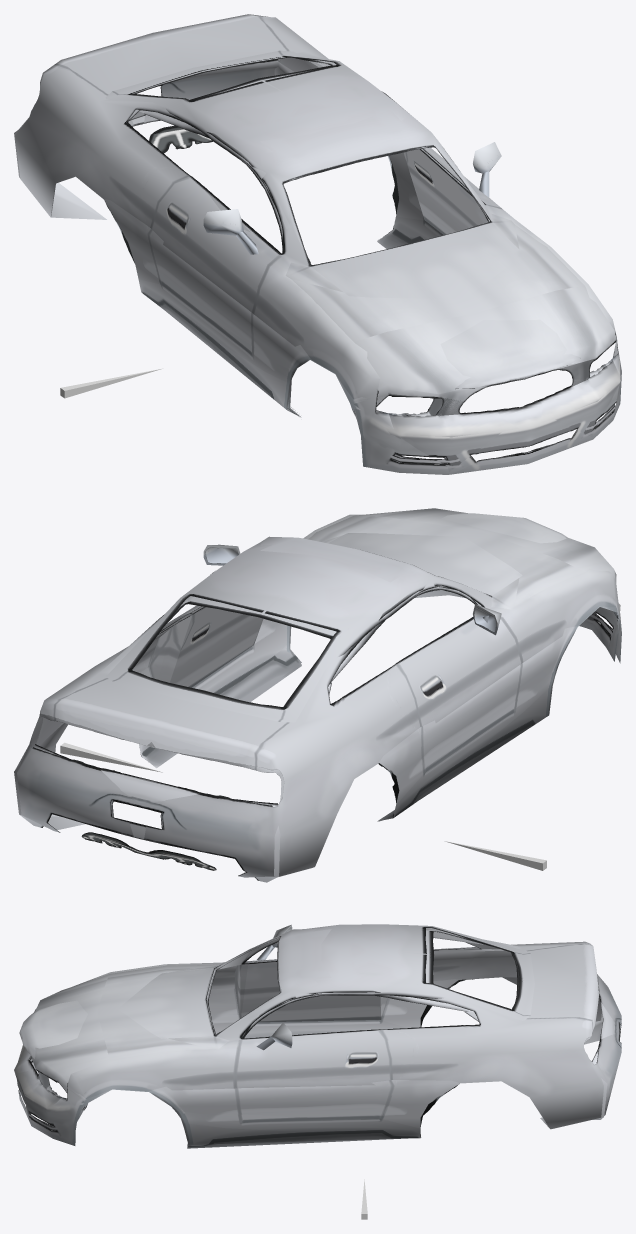
Rendered from testAgressive.FBX.
The picture shows the model from 3 angles, top to bottom: view 1: azimuth 30°, elevation 25°; view 2: azimuth 150°, elevation 25°; view 3: azimuth 270°, elevation 25°; orthographic projection. The views are drawn at different scales.
Parts seen in each view (by area): view 1: Stang3BodyDoorCut, Stang1BodyLores, Stang2BodyWindowed, DoorR, DoorL, MirrorR, MirrorL, EnterR; view 2: Stang3BodyDoorCut, Stang1BodyLores, Stang2BodyWindowed, DoorR, DoorL, EnterL, EnterR, MirrorL, MirrorR; view 3: Stang3BodyDoorCut, Stang1BodyLores, Stang2BodyWindowed, DoorL, DoorR, MirrorL.
Boxes of the visible parts, <box> form: Stang3BodyDoorCut: <box>15,14,621,474</box>; Stang1BodyLores: <box>14,50,620,474</box>; Stang2BodyWindowed: <box>129,57,620,474</box>; DoorR: <box>151,176,283,355</box>; DoorL: <box>403,147,501,234</box>; MirrorR: <box>203,209,258,254</box>; MirrorL: <box>473,142,501,197</box>; EnterR: <box>60,368,162,398</box>; Stang3BodyDoorCut: <box>15,513,621,877</box>; Stang1BodyLores: <box>14,515,620,882</box>; Stang2BodyWindowed: <box>37,508,618,821</box>; DoorR: <box>396,617,522,769</box>; DoorL: <box>149,605,263,687</box>; EnterL: <box>60,742,162,772</box>; EnterR: <box>444,841,546,870</box>; MirrorL: <box>203,544,240,565</box>; MirrorR: <box>473,604,501,635</box>; Stang3BodyDoorCut: <box>14,928,621,1146</box>; Stang1BodyLores: <box>17,924,621,1146</box>; Stang2BodyWindowed: <box>17,930,620,1148</box>; DoorL: <box>234,1029,391,1122</box>; DoorR: <box>234,959,387,1022</box>; MirrorL: <box>256,1022,292,1050</box>.
Size of what is drawn, in the model's own units: 331 by 153 by 470.
